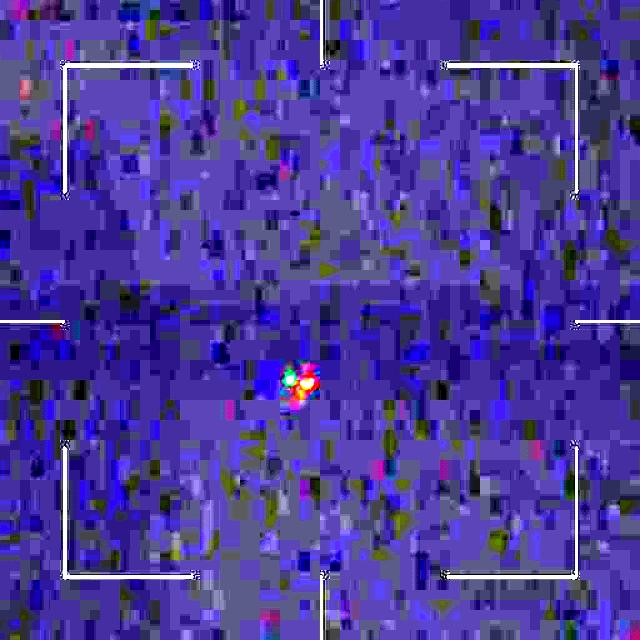bird: (284, 370, 314, 406)
